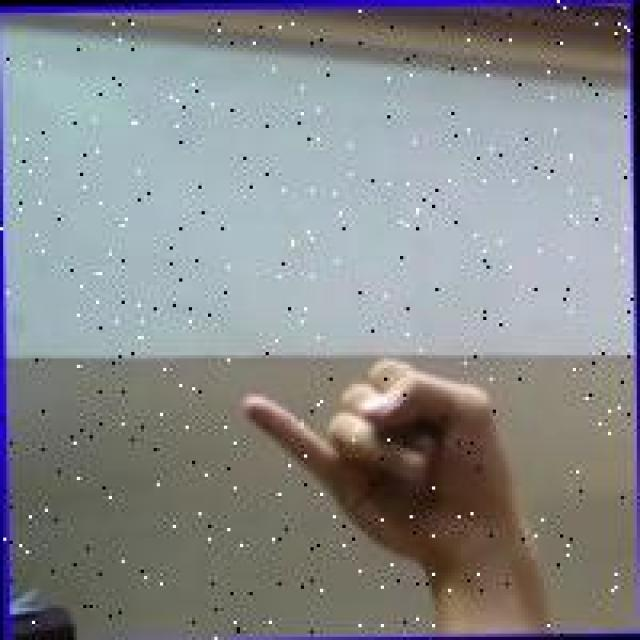J: (238, 352, 526, 573)
